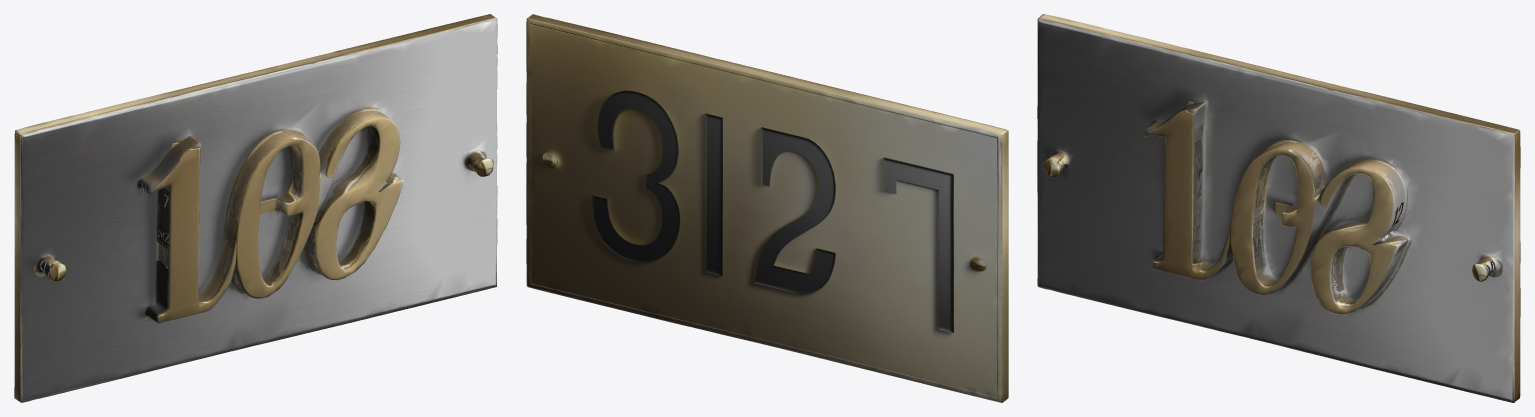
The model's file is A_modern_condominium__1127233243_texture.fbx.
3 renders of one model, left to right at view 1: azimuth 30°, elevation 25°; view 2: azimuth 150°, elevation 25°; view 3: azimuth 330°, elevation 25°, orthographic.
Visible parts, largest first — view 1: Mesh_0; view 2: Mesh_0; view 3: Mesh_0.
Boxes of the visible parts, bbox=[...] form: Mesh_0: bbox=[14, 14, 497, 402]; Mesh_0: bbox=[526, 14, 1008, 402]; Mesh_0: bbox=[1037, 14, 1520, 402].
Size of the model in its own units: 201 by 108 by 14.02.
1 material, 1 textured.
